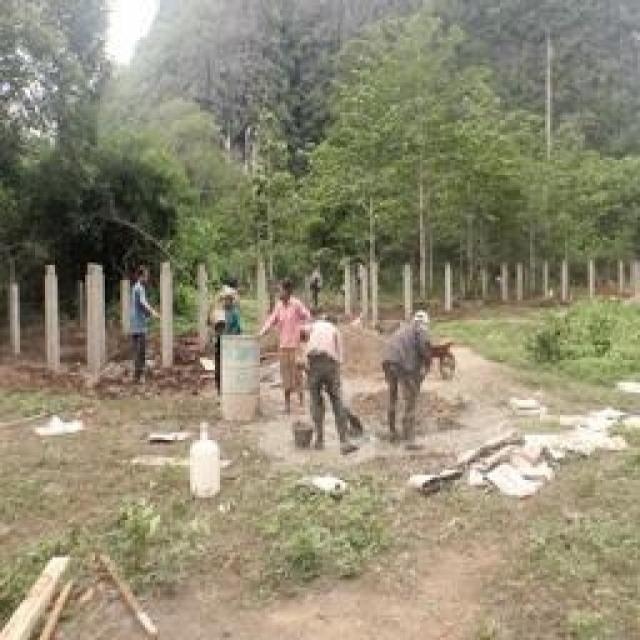Helmet: (385, 315, 429, 393), (207, 300, 247, 372), (270, 296, 306, 375), (306, 309, 340, 382), (120, 281, 156, 346), (270, 273, 310, 307), (407, 300, 445, 332), (124, 258, 164, 288), (318, 307, 356, 336), (214, 274, 242, 308)
